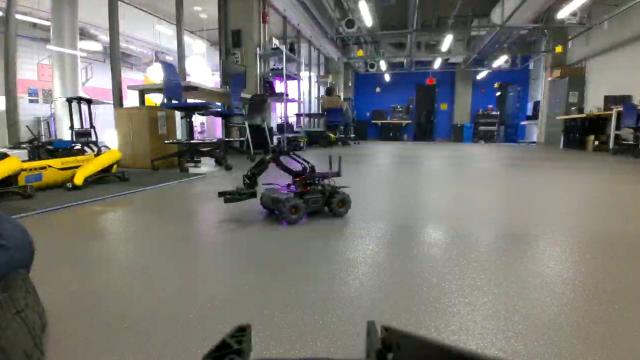robot: (217, 136, 359, 228)
